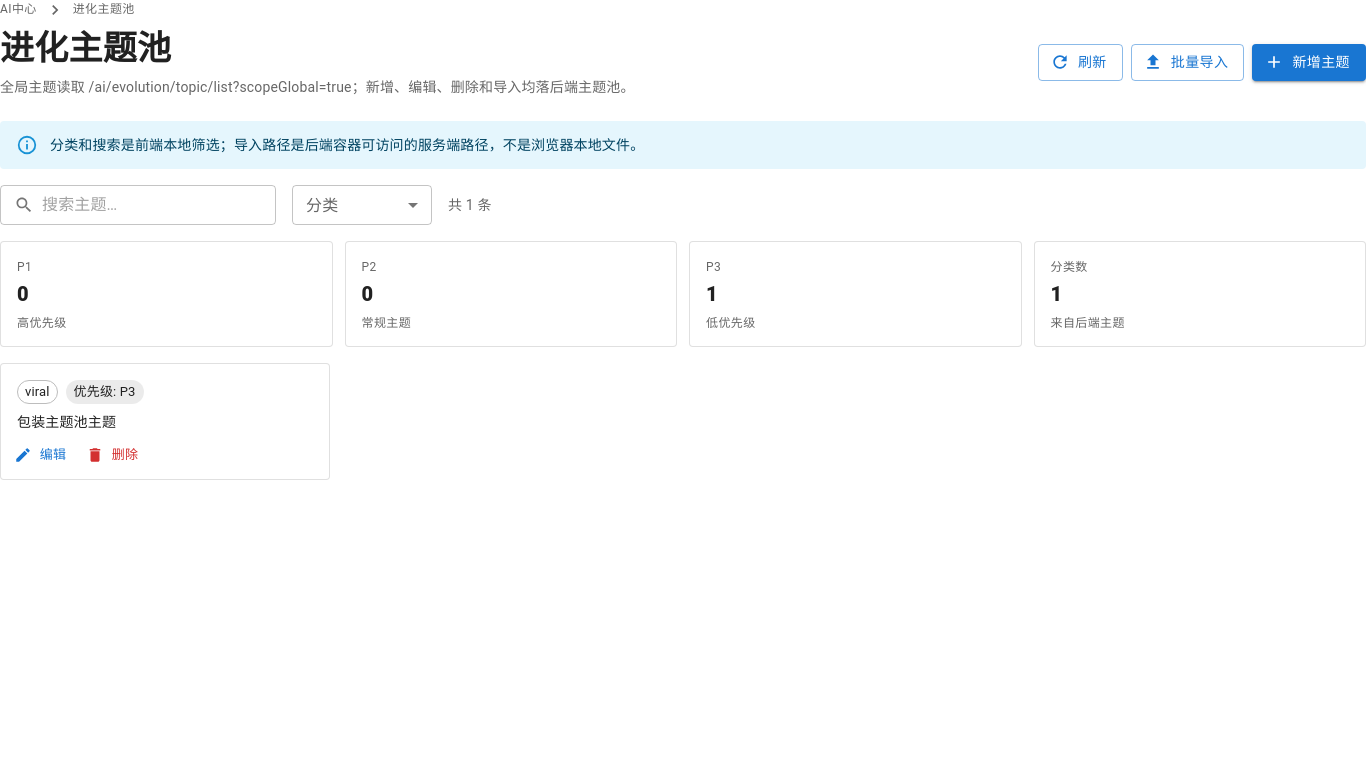
Test: Evolution ops pages › EvolutionTopicPage accepts wrapped topic list and shows import failures inline
Expected: the text "包装主题池主题" is shown, [17,414,116,430]
Click the button "批量导入". click: (1188, 62)
box: [1131,44,1244,81]
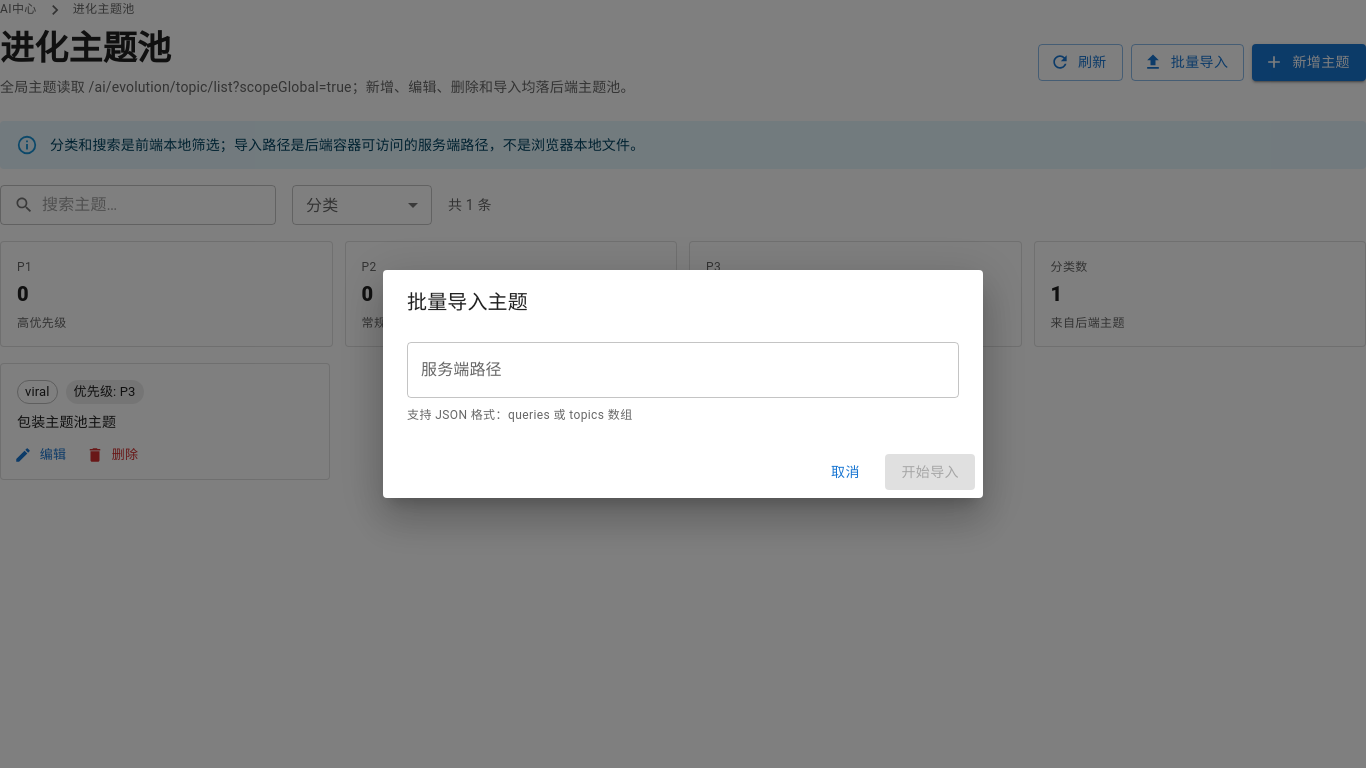
Type "/data/missing.json" into the field labelled "服务端路径". click: (683, 370)
box: [407,342,959,398]
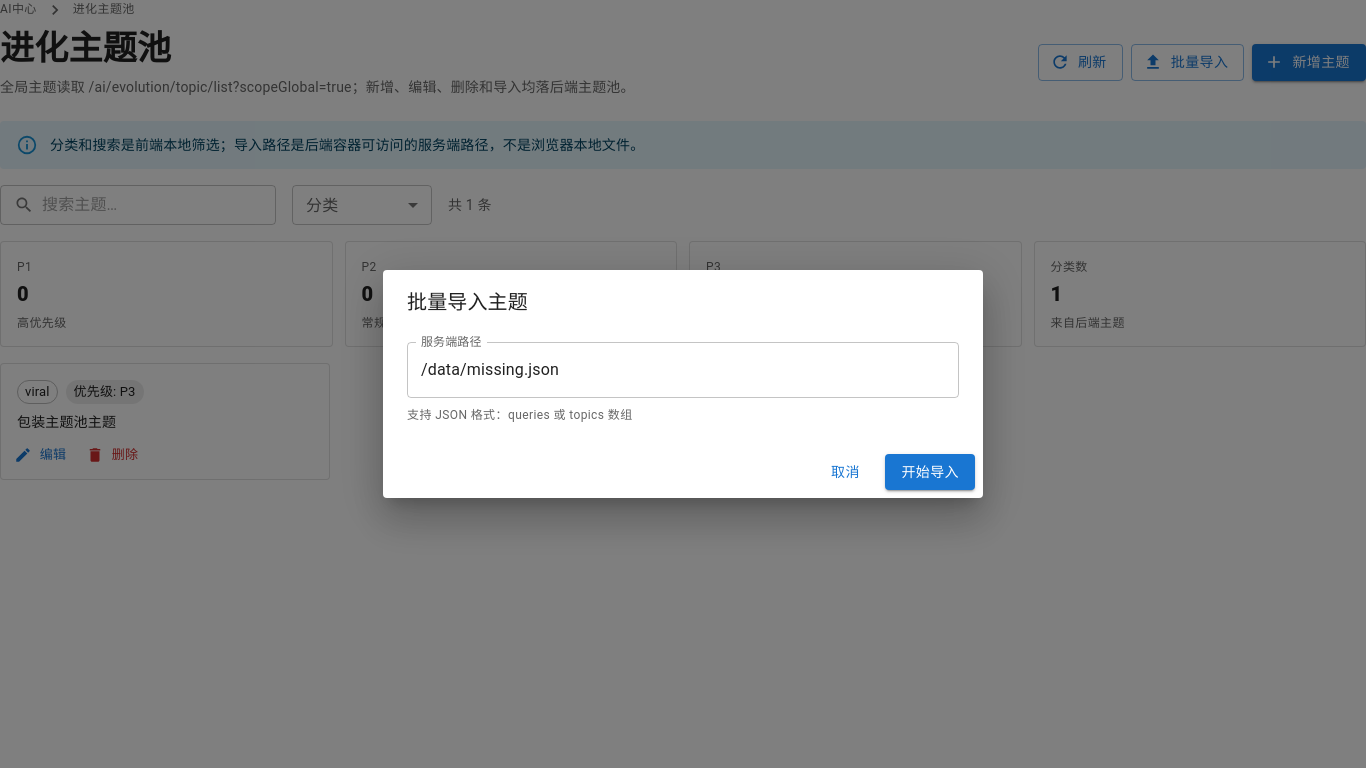
Click the button with test id "evolution-topic-import-submit". click: (930, 472)
box: [885,454,975,490]
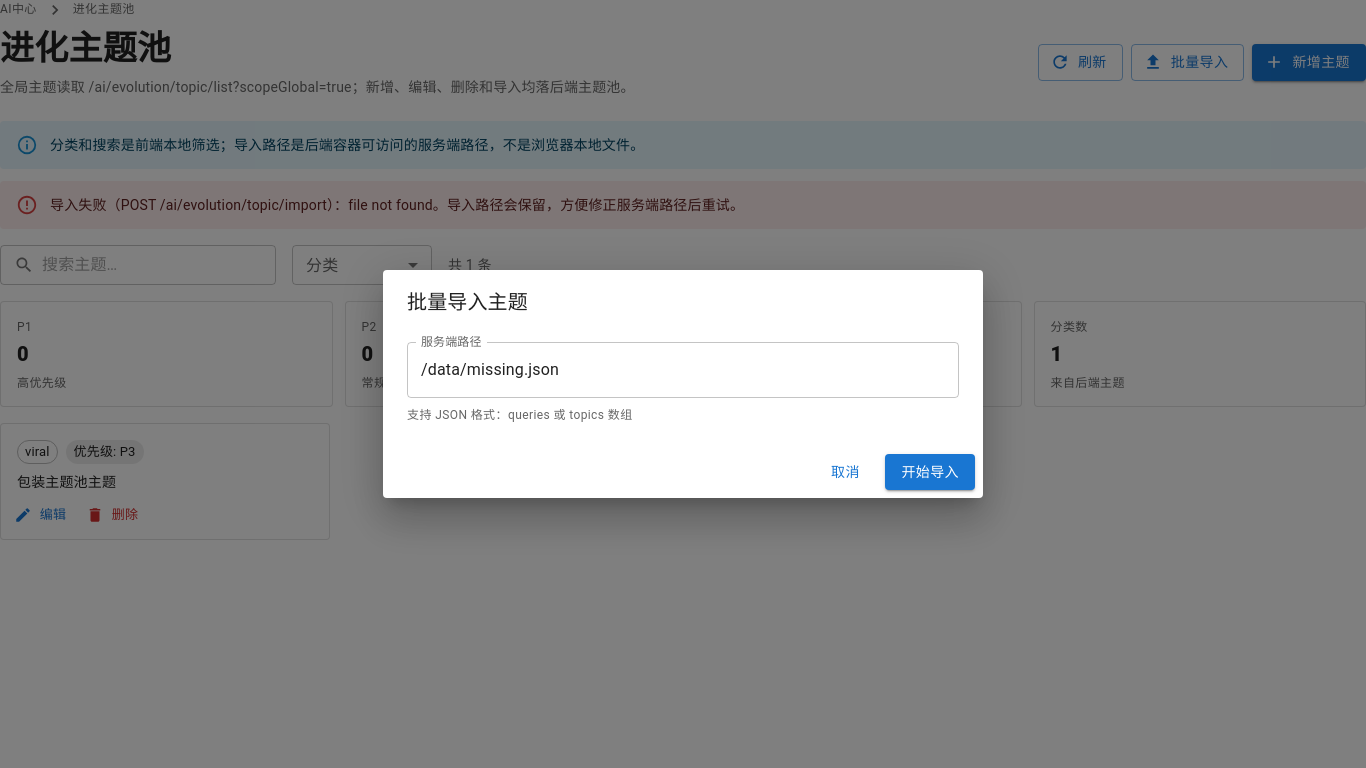
Now the text "导入路径会保留" is shown, box [50,197,744,213]
